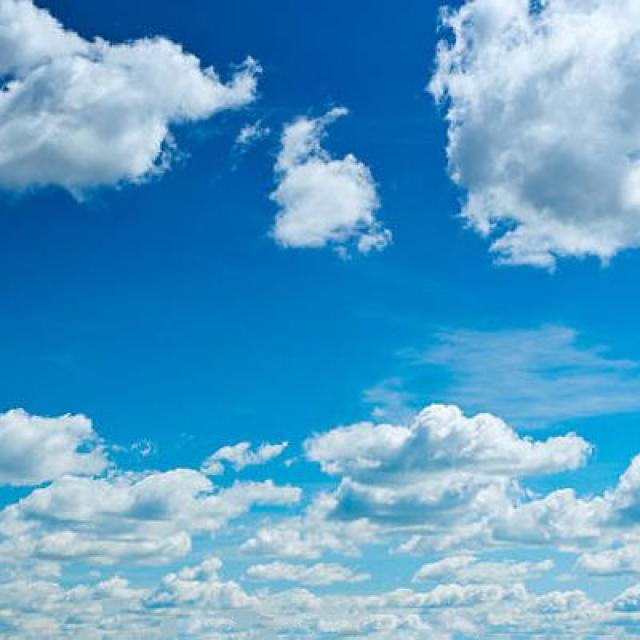Cc: (1, 8, 640, 324)
